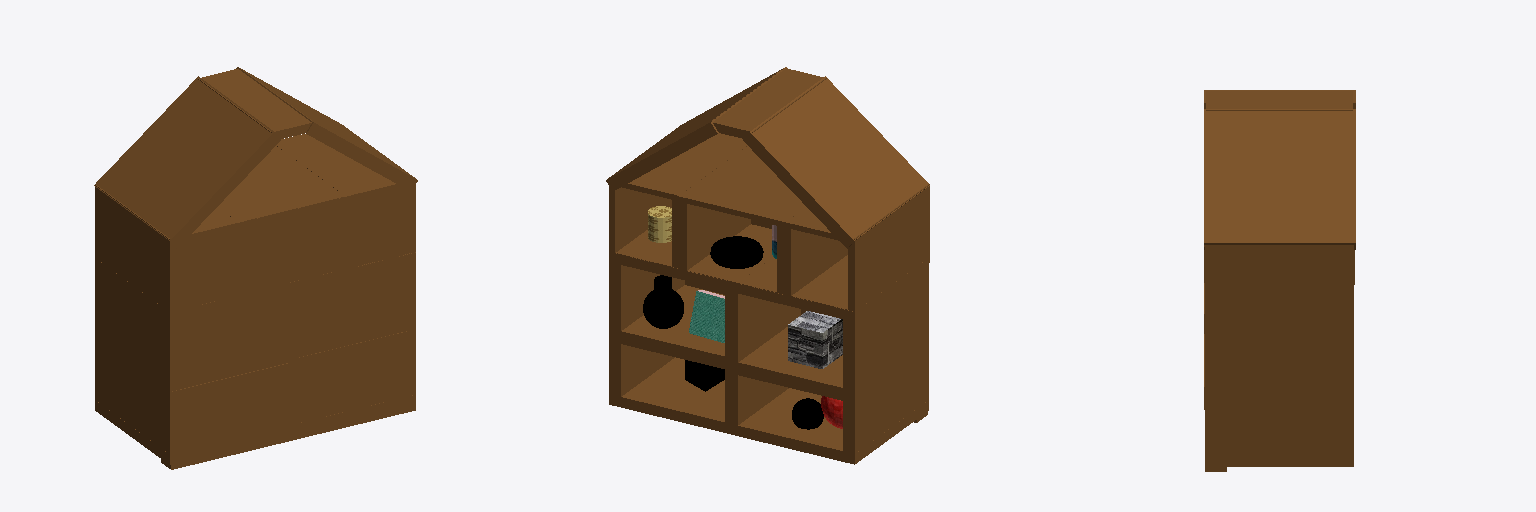
3 renders of one model, left to right at view 1: azimuth 30°, elevation 25°; view 2: azimuth 150°, elevation 25°; view 3: azimuth 270°, elevation 25°, orthographic.
Parts seen in each view (by area): view 1: pCube6, pCube8, pasted__pasted__pCube5 pasted__group group3, pasted__pasted__pasted__pasted__pCube5 pasted__pasted__pasted__g, pasted__pasted__pasted__pasted__group pasted__pasted__pasted__gr, pasted__pasted__pasted__group pasted__pasted__group1 pasted__gro, pCube7, pCube9, pasted__pCube5 group, pasted__pCube11 group10, pCube11, group pasted__pCube3 (+2 smaller); view 2: pCube8, pasted__pasted__pCube5 pasted__group group3, pasted__pasted__pasted__group pasted__pasted__group1 pasted__gro, pasted__pasted__pasted__pasted__pCube5 pasted__pasted__pasted__g, pasted__pasted__pasted__pasted__group pasted__pasted__pasted__gr, group pasted__pCube4, pasted__group group3 pasted__pasted__pCube3, group pasted__pCube3, pasted__pCube5 group, pasted__pCube11 group10, pCube11, pasted__group group3 pasted__pasted__pCube1 (+13 smaller); view 3: group pasted__pCube4, pCube7, pasted__pasted__pasted__group pasted__pasted__group1 pasted__gro, pCube9.
Part boxes in pixels (x1,y1,x2,y2): pCube6: (161, 188, 415, 469); pCube8: (94, 76, 280, 248); pasted__pasted__pCube5 pasted__group group3: (95, 268, 181, 464); pasted__pasted__pasted__pasted__pCube5 pasted__pasted__pasted__g: (95, 142, 352, 317); pasted__pasted__pasted__pasted__group pasted__pasted__pasted__gr: (217, 146, 345, 300); pasted__pasted__pasted__group pasted__pasted__group1 pasted__gro: (95, 134, 415, 317); pCube7: (236, 67, 417, 191); pCube9: (198, 68, 311, 138); pasted__pCube5 group: (287, 280, 298, 435); pasted__pCube11 group10: (171, 363, 290, 404); pCube11: (288, 331, 407, 371); group pasted__pCube3: (287, 395, 415, 436); pCube8: (743, 76, 929, 248); pasted__pasted__pCube5 pasted__group group3: (843, 268, 928, 453); pasted__pasted__pasted__group pasted__pasted__group1 pasted__gro: (609, 133, 929, 316); pasted__pasted__pasted__pasted__pCube5 pasted__pasted__pasted__g: (672, 142, 929, 311); pasted__pasted__pasted__pasted__group pasted__pasted__pasted__gr: (680, 146, 805, 299); group pasted__pCube4: (609, 253, 684, 406); pasted__group group3 pasted__pasted__pCube3: (738, 388, 928, 464); group pasted__pCube3: (612, 357, 787, 432); pasted__pCube5 group: (726, 246, 800, 424); pasted__pCube11 group10: (738, 327, 842, 400); pCube11: (621, 285, 724, 368); pasted__group group3 pasted__pasted__pCube1: (727, 255, 928, 321); group pasted__pCube4: (1205, 314, 1353, 466); pCube7: (1204, 109, 1355, 249); pasted__pasted__pasted__group pasted__pasted__group1 pasted__gro: (1204, 245, 1353, 319); pCube9: (1206, 91, 1352, 110).
Size of the model in its own units: 1.46 by 1.75 by 0.7722.
17 materials, 6 textured.